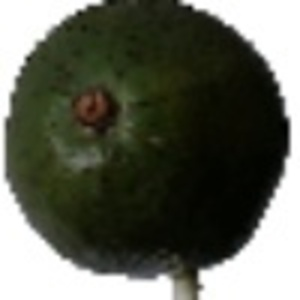abacate: (4, 5, 291, 272)
